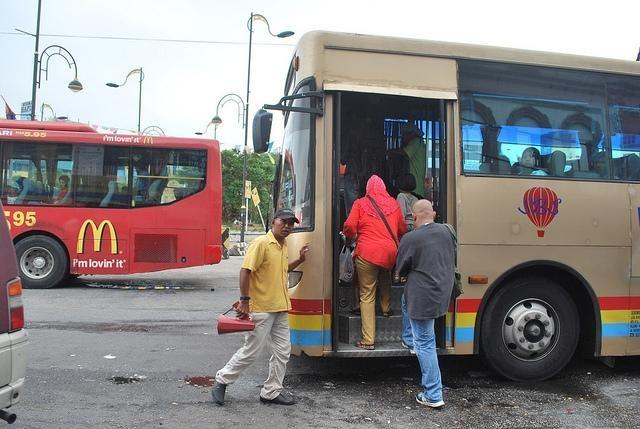bus: (250, 26, 639, 388), (0, 118, 222, 289)
car: (1, 202, 28, 426)
